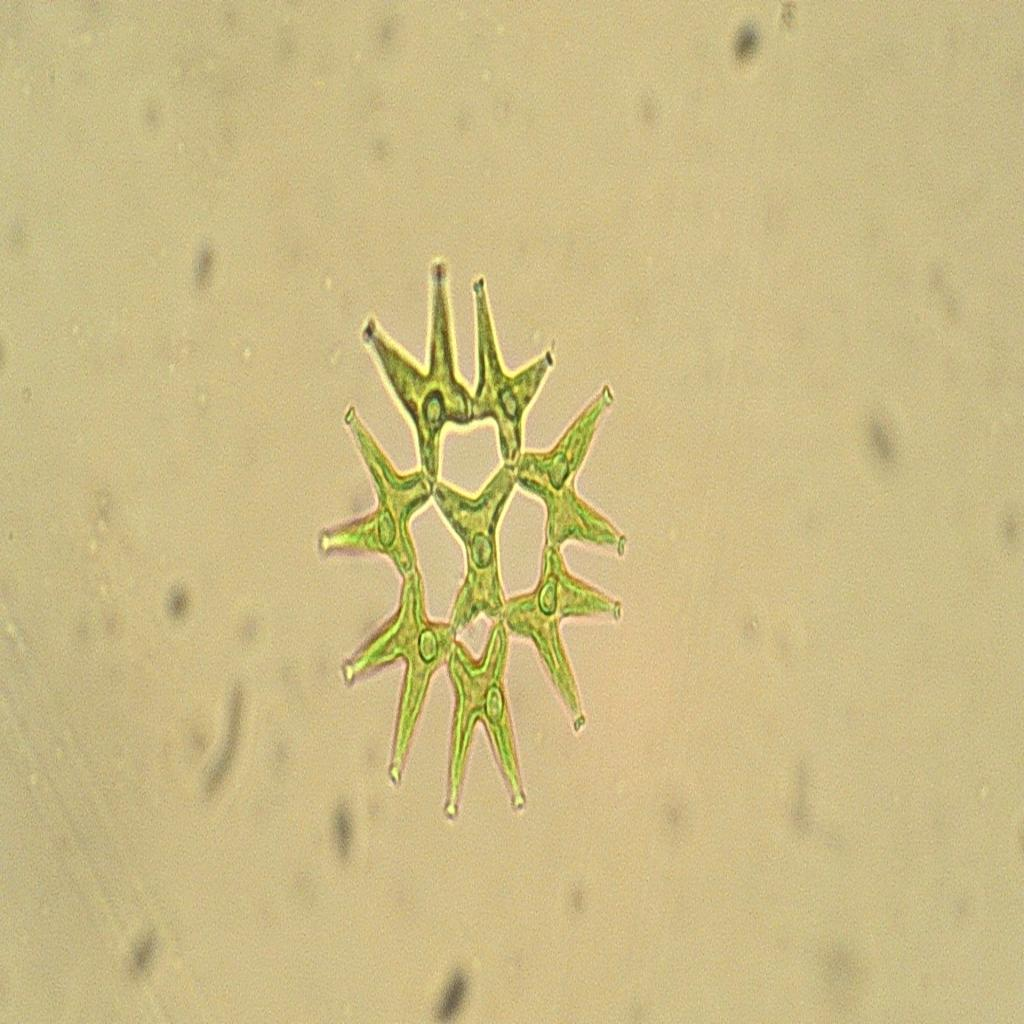Pediastrum_75T: (310, 246, 634, 822)
